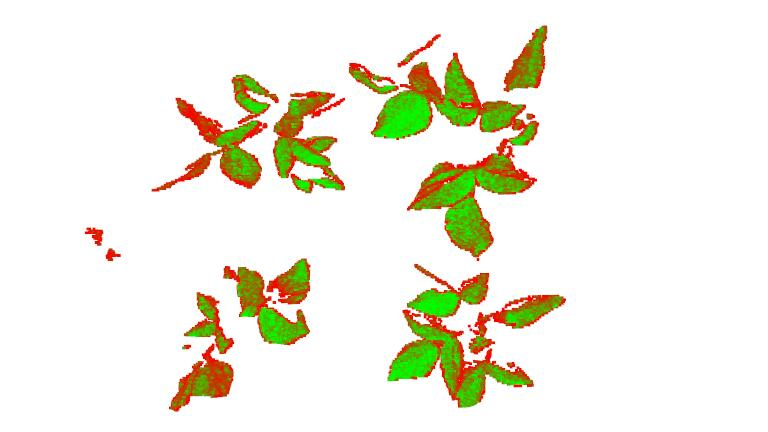mungbean: (344, 23, 554, 255), (380, 262, 568, 404), (167, 252, 321, 412), (151, 72, 346, 195)
